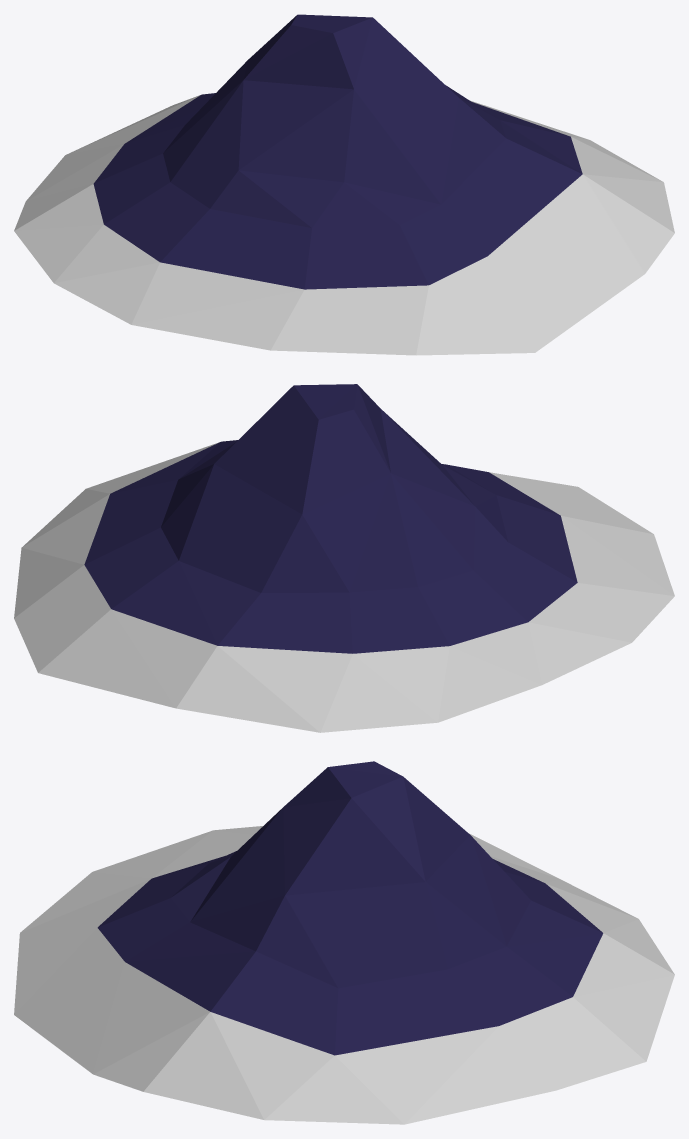
Rendered from NC_OREHEAP_PFX.OBJ.
3 renders of one model, top to bottom at view 1: azimuth 30°, elevation 25°; view 2: azimuth 150°, elevation 25°; view 3: azimuth 270°, elevation 25°, orthographic. The views are drawn at different scales.
Visible parts, largest first — view 1: NC_OREHEAP_PFX; view 2: NC_OREHEAP_PFX; view 3: NC_OREHEAP_PFX.
Boxes of the visible parts, x1,y1,x2,y2 form: NC_OREHEAP_PFX: [14, 14, 674, 355]; NC_OREHEAP_PFX: [14, 384, 674, 732]; NC_OREHEAP_PFX: [14, 761, 674, 1124].
Size of the model in its own units: 17.63 by 6.42 by 17.18.
